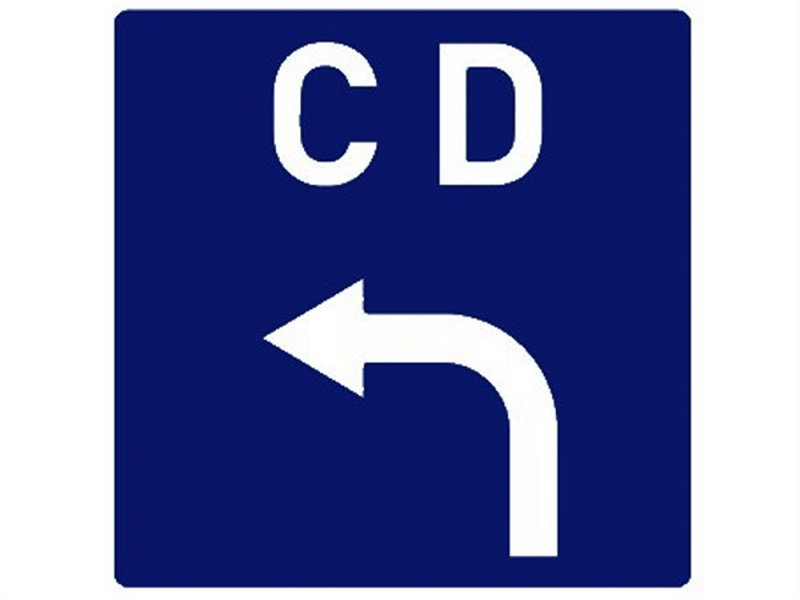solaDon: (231, 260, 602, 576)
